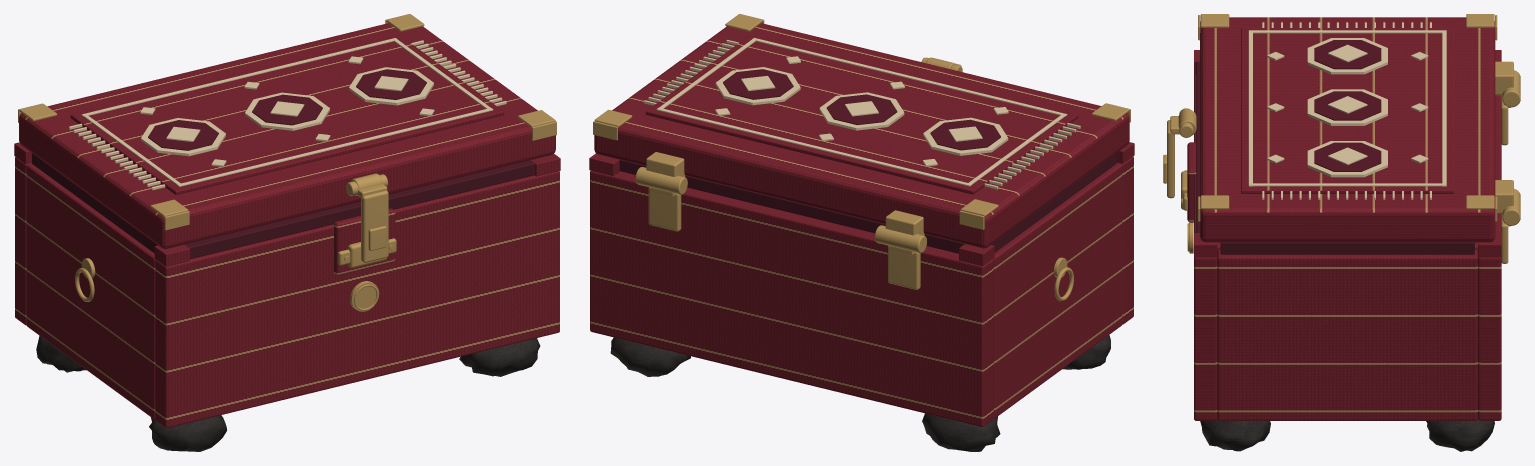
File: turkmenistan.glb
The picture shows the model from 3 angles, left to right: view 1: azimuth 30°, elevation 25°; view 2: azimuth 150°, elevation 25°; view 3: azimuth 270°, elevation 25°; orthographic projection.
Visible parts, largest first — view 1: Textile / front, Lid / polished slab, Carpet / raised woven field, Textile / side, Mineral seam / long, Granite foot, Textile / rear, Granite foot.002, Latch / lifting hasp, Textile / clasp seat, Mineral seam / side, Carpet / garnet octagon.001 (+10 smaller); view 2: Textile / rear, Lid / polished slab, Carpet / raised woven field, Textile / side, Mineral seam / long.001, Granite foot.001, Textile / front, Granite foot.003, Mineral seam / side, Carpet / garnet octagon.002, Carpet / garnet octagon.001, Carpet / garnet octagon (+14 smaller); view 3: Textile / side.001, Lid / polished slab, Carpet / raised woven field, Textile / rear, Textile / front, Mineral seam / side.001, Granite foot.002, Granite foot.003, Carpet / garnet octagon.001, Carpet / garnet octagon, Carpet / garnet octagon.002, Carpet / ivory octagon.001 (+22 smaller).
Part boxes in pixels (bbox=[...]): Textile / front: bbox=[155, 171, 559, 428]; Lid / polished slab: bbox=[19, 23, 555, 248]; Carpet / raised woven field: bbox=[70, 34, 504, 194]; Textile / side: bbox=[26, 164, 155, 419]; Mineral seam / long: bbox=[184, 160, 535, 258]; Granite foot: bbox=[149, 415, 226, 451]; Textile / rear: bbox=[15, 157, 31, 325]; Granite foot.002: bbox=[459, 338, 540, 376]; Latch / lifting hasp: bbox=[361, 190, 388, 262]; Textile / clasp seat: bbox=[333, 208, 395, 275]; Mineral seam / side: bbox=[32, 153, 157, 253]; Carpet / garnet octagon.001: bbox=[252, 94, 322, 125]; Textile / rear: bbox=[590, 170, 993, 426]; Lid / polished slab: bbox=[594, 23, 1129, 248]; Carpet / raised woven field: bbox=[645, 34, 1078, 194]; Textile / side: bbox=[993, 163, 1122, 418]; Mineral seam / long.001: bbox=[619, 160, 964, 253]; Granite foot.001: bbox=[922, 413, 1000, 451]; Textile / front: bbox=[1117, 156, 1133, 324]; Granite foot.003: bbox=[610, 337, 690, 376]; Mineral seam / side: bbox=[991, 153, 1116, 252]; Carpet / garnet octagon.002: bbox=[723, 69, 793, 99]; Carpet / garnet octagon.001: bbox=[826, 94, 897, 125]; Carpet / garnet octagon: bbox=[930, 119, 1000, 150]; Textile / side.001: bbox=[1217, 249, 1477, 420]; Lid / polished slab: bbox=[1200, 17, 1495, 242]; Carpet / raised woven field: bbox=[1241, 28, 1454, 193]; Textile / rear: bbox=[1478, 95, 1501, 420]; Textile / front: bbox=[1194, 74, 1217, 420]; Mineral seam / side.001: bbox=[1220, 242, 1474, 254]; Granite foot.002: bbox=[1200, 419, 1270, 451]; Granite foot.003: bbox=[1426, 419, 1494, 451]; Carpet / garnet octagon.001: bbox=[1314, 91, 1381, 120]; Carpet / garnet octagon: bbox=[1314, 40, 1381, 69]; Carpet / garnet octagon.002: bbox=[1314, 142, 1381, 171]; Carpet / ivory octagon.001: bbox=[1307, 89, 1387, 125].
Bounding box in the file's own units: 3.79 × 2.36 × 2.88.
6 materials, 2 textured.
